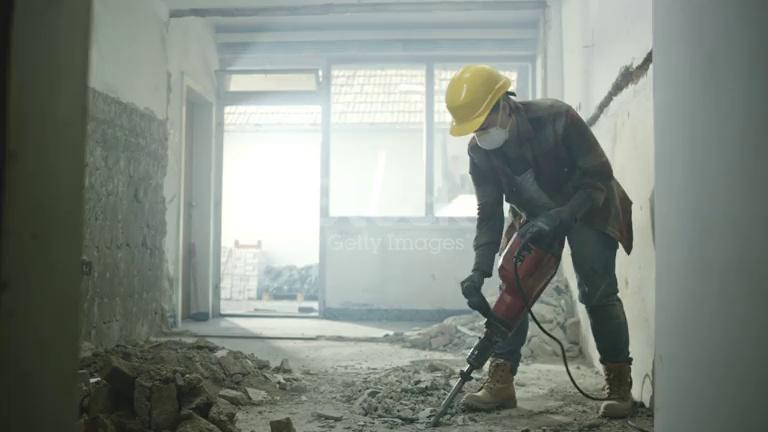helmet: (445, 62, 512, 137)
mask: (468, 127, 509, 151)
person: (445, 59, 637, 423)
